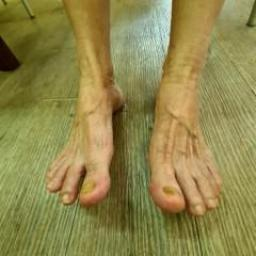Front View -Both Feet-: (24, 45, 239, 239)
